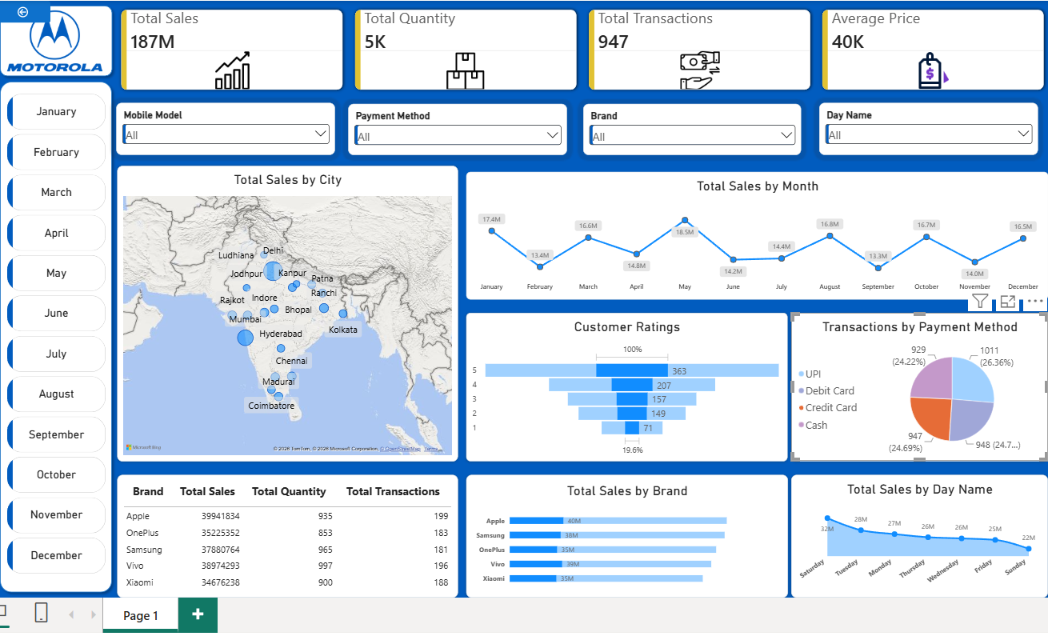

This screenshot's page, from the dashboard's own definition file:
{"tool":"powerbi","page":{"name":"Page 1","canvas":[1920,1080],"ordinal":0},"visuals":[{"type":"shape","box":[0,0,220.8,145.3],"z":0},{"type":"image","box":[17,9.4,183,128.3],"z":1000},{"type":"shape","box":[0,138.2,220,941.8],"z":2000},{"type":"advancedSlicerVisual","fields":{"Values":["Sales_Data.Date.Variation.Date Hierarchy.Month"]},"box":[21.8,169.1,178.2,878.2],"z":3000},{"type":"cardVisual","fields":{"Data":["Sales_Data.Total Sales","Sales_Data.Total Quantity","Sales_Data.Total Transactions","Sales_Data.Average Price"]},"box":[220.8,9,1684.8,159.3],"z":4000},{"type":"slicer","fields":{"Values":["Sales_Data.Mobile Model"]},"box":[219,185.5,396.4,94.5],"z":5000},{"type":"slicer","fields":{"Values":["Sales_Data.Day Name"]},"box":[1490.9,185.5,396.4,94.5],"z":6000},{"type":"slicer","fields":{"Values":["Sales_Data.Payment Method"]},"box":[638.2,187.3,396.4,92.7],"z":7000},{"type":"slicer","fields":{"Values":["Sales_Data.Brand"]},"box":[1063.6,187.3,394.5,92.7],"z":8000},{"type":"map","title":"Total Sales by City","fields":{"Category":["Sales_Data.City"],"Size":["Sales_Data.Total Sales"]},"box":[220.4,298.1,616.7,535.2],"z":9000},{"type":"lineChart","fields":{"Category":["Sales_Data.Date.Variation.Date Hierarchy.Month"],"Y":["Sales_Data.Total Sales"]},"box":[851.9,309.3,1053.7,231.5],"z":10000},{"type":"funnel","title":"Customer Ratings","fields":{"Category":["Sales_Data.Customer Ratings"],"Y":["CountNonNull(Sales_Data.Customer Ratings)"]},"box":[851.9,564.8,581.5,268.5],"z":11000},{"type":"pieChart","title":"Transactions by Payment Method","fields":{"Category":["Sales_Data.Payment Method"],"Y":["Sales_Data.Total Transactions"]},"box":[1440.7,564.8,464.8,268.5],"z":11001},{"type":"tableEx","fields":{"Values":["Sales_Data.Brand","Sales_Data.Total Sales","Sales_Data.Total Quantity","Sales_Data.Total Transactions"]},"box":[220.4,857.4,616.7,222.2],"z":11002},{"type":"clusteredBarChart","fields":{"Category":["Sales_Data.Brand"],"Y":["Sales_Data.Total Sales"]},"box":[853,858,582,222],"z":11003},{"type":"areaChart","fields":{"Category":["Sales_Data.Day Name"],"Y":["Sales_Data.Total Sales"]},"box":[1441,858,465,222],"z":11004},{"type":"actionButton","box":[0,0,100,40],"z":11005}]}

Visuals, with their boxes in screenshot pixels (x1, y1, x2, y2):
shape: BBox(0, 0, 112, 76)
image: BBox(0, 0, 101, 71)
shape: BBox(0, 72, 112, 597)
advancedSlicerVisual - Sales_Data.Date.Variation.Date Hierarchy.Month: BBox(1, 89, 101, 579)
cardVisual - Sales_Data.Total Sales x Sales_Data.Total Quantity: BBox(112, 0, 1047, 88)
slicer - Sales_Data.Mobile Model: BBox(111, 98, 333, 151)
slicer - Sales_Data.Day Name: BBox(821, 98, 1042, 151)
slicer - Sales_Data.Payment Method: BBox(345, 99, 566, 151)
slicer - Sales_Data.Brand: BBox(583, 99, 803, 151)
"Total Sales by City" map: BBox(112, 161, 456, 460)
lineChart - Sales_Data.Date.Variation.Date Hierarchy.Month x Sales_Data.Total Sales: BBox(464, 167, 1047, 296)
"Customer Ratings" funnel: BBox(464, 310, 789, 460)
"Transactions by Payment Method" pieChart: BBox(793, 310, 1047, 460)
tableEx - Sales_Data.Brand x Sales_Data.Total Sales: BBox(112, 473, 456, 597)
clusteredBarChart - Sales_Data.Brand x Sales_Data.Total Sales: BBox(465, 473, 790, 597)
areaChart - Sales_Data.Day Name x Sales_Data.Total Sales: BBox(793, 473, 1047, 597)
actionButton: BBox(0, 0, 45, 17)
